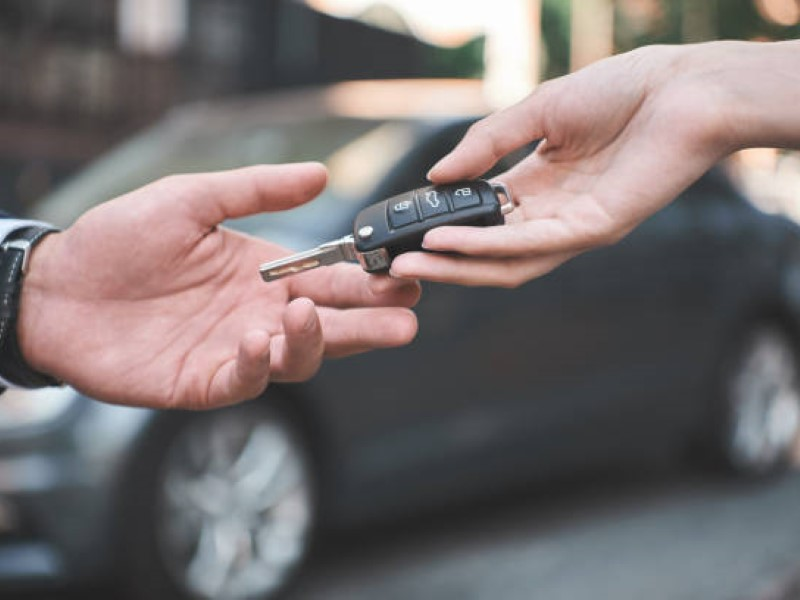carkey: (256, 168, 513, 287)
